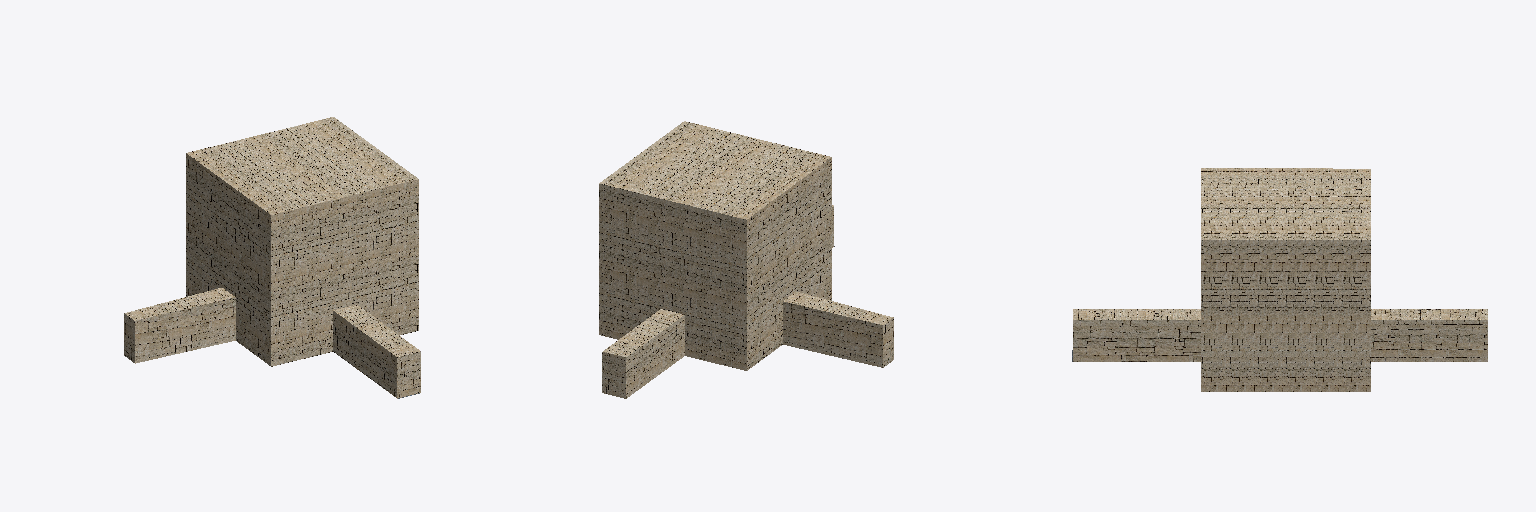
3 renders of one model, left to right at view 1: azimuth 30°, elevation 25°; view 2: azimuth 150°, elevation 25°; view 3: azimuth 270°, elevation 25°, orthographic.
Parts seen in each view (by area): view 1: Lobby_Circle.023; view 2: Lobby_Circle.023; view 3: Lobby_Circle.023.
Part boxes in pixels (left/top/right/bottom): Lobby_Circle.023: left=124, top=117, right=420, bottom=398; Lobby_Circle.023: left=599, top=121, right=893, bottom=398; Lobby_Circle.023: left=1072, top=168, right=1487, bottom=391.
Size of the model in its own units: 87.59 by 51.44 by 128.
3 materials, 2 textured.